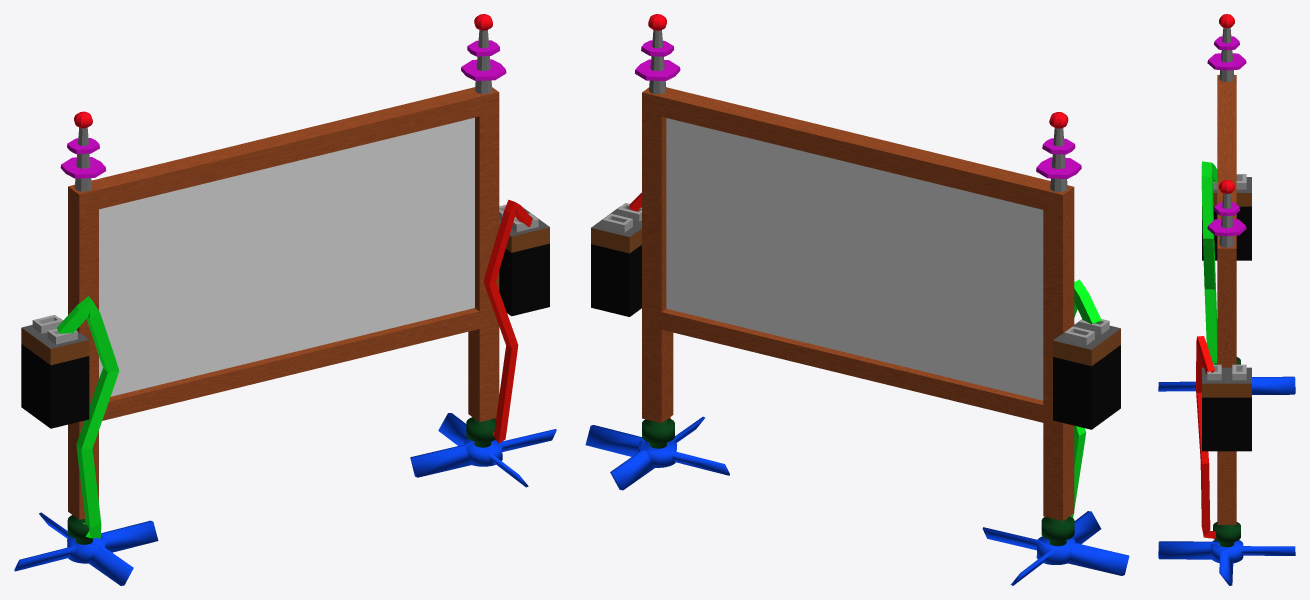
File: scorboard.fbx
3 views of the same model, side by side, from view 1: azimuth 30°, elevation 25°; view 2: azimuth 150°, elevation 25°; view 3: azimuth 270°, elevation 25° (orthographic). The views are drawn at different scales.
Parts seen in each view (by area): view 1: Cube.002, Cube, Cube.003, Cube.004, Cube.006, Cube.001, Cylinder.002, Cylinder, Cube.005, Cylinder.001; view 2: Cube.002, Cube, Cube.003, Cube.006, Cube.001, Cylinder, Cylinder.002, Cylinder.001, Cube.004; view 3: Cube, Cube.006, Cube.001, Cylinder, Cube.004, Cube.005, Cube.003, Cylinder.002, Cylinder.001.
Boxes of the visible parts, x1,y1,x2,y2 form: Cube.002: (99,117,474,396); Cube: (68,87,499,519); Cube.003: (21,315,89,428); Cube.004: (57,296,119,538); Cube.006: (499,204,549,316); Cube.001: (60,14,506,191); Cylinder.002: (14,512,158,585); Cylinder: (410,413,556,487); Cube.005: (483,199,532,443); Cylinder.001: (67,417,495,544); Cube.002: (666,118,1043,400); Cube: (642,87,1074,520); Cube.003: (1053,319,1120,429); Cube.006: (591,203,641,316); Cube.001: (634,14,1081,192); Cylinder: (585,416,729,490); Cylinder.002: (982,511,1129,585); Cylinder.001: (642,418,1074,546); Cube.004: (1070,279,1101,517); Cube: (1217,75,1236,524); Cube.006: (1202,364,1251,451); Cube.001: (1207,14,1246,247); Cylinder: (1158,540,1295,585); Cube.004: (1201,161,1217,364); Cube.005: (1196,336,1216,538); Cube.003: (1202,174,1251,260); Cylinder.002: (1158,376,1295,394); Cylinder.001: (1213,357,1240,547).
Bounding box in the file's own units: 1409 × 1112 × 367.
Materials: 7 (7 with a texture image).
